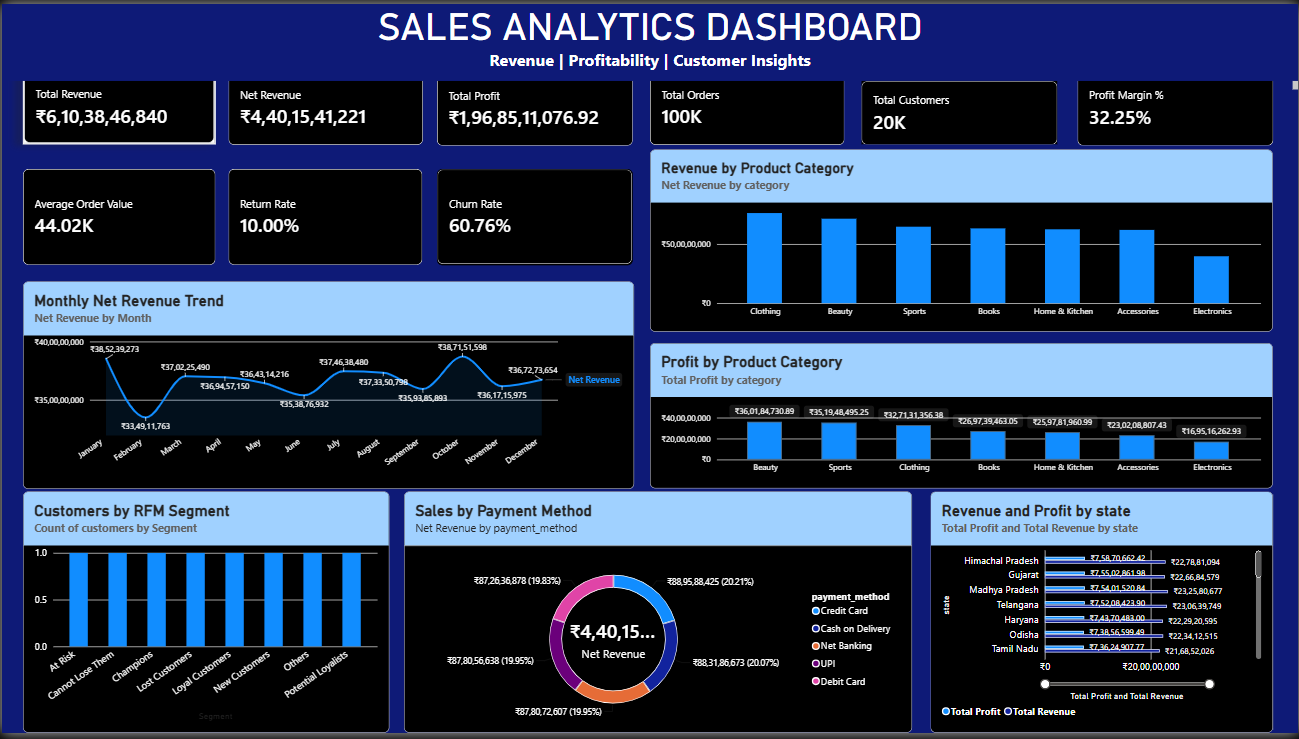

What the dashboard file says about the page in this screenshot:
{"tool":"powerbi","page":{"name":"executive overview","canvas":[1920,1080],"ordinal":0},"visuals":[{"type":"cardVisual","fields":{"Data":["orders_cleaned.Total Revenue"]},"box":[30,97.5,285,110],"z":0},{"type":"cardVisual","fields":{"Data":["orders_cleaned.Net Revenue"]},"box":[335,97.5,288.3,111.7],"z":1000},{"type":"cardVisual","fields":{"Data":["orders_cleaned.Total Profit"]},"box":[645,100,290,110],"z":2000},{"type":"cardVisual","fields":{"Data":["orders_cleaned.Total Orders"]},"box":[960,97.5,288.3,111.7],"z":3000},{"type":"cardVisual","fields":{"Data":["orders_cleaned.Profit Margin"]},"box":[1592.5,97.5,290,112.5],"z":4000},{"type":"cardVisual","fields":{"Data":["customers_cleaned.Total Customers"]},"box":[1272.5,97.5,290,110],"z":5000},{"type":"lineChart","title":"Monthly Net Revenue Trend","fields":{"Category":["orders_cleaned.order_date.Variation.Date Hierarchy.Month"],"Y":["orders_cleaned.Net Revenue"]},"box":[30,410,905,307.5],"z":6000},{"type":"clusteredColumnChart","title":"Revenue by Product Category","fields":{"Category":["products_cleaned.category"],"Y":["orders_cleaned.Net Revenue"]},"box":[960,215,922.5,270],"z":7000},{"type":"clusteredColumnChart","title":"Customers by RFM Segment","fields":{"Category":["customer_segments.Segment"],"Y":["CountNonNull(customer_segments.customers)"]},"box":[30,722.5,542.5,357.5],"z":8000},{"type":"clusteredColumnChart","title":"Profit by Product Category","fields":{"Category":["category_profitability.category"],"Y":["orders_cleaned.Total Profit"]},"box":[960,502.5,922.5,215],"z":9000},{"type":"clusteredBarChart","title":"Revenue and Profit by state","fields":{"Category":["customers_cleaned.state"],"Y":["orders_cleaned.Total Profit","orders_cleaned.Total Revenue"]},"box":[1375,722.5,507.5,357.5],"z":10000},{"type":"donutChart","title":"Sales by Payment Method","fields":{"Category":["payments_cleaned.payment_method"],"Y":["orders_cleaned.Net Revenue"]},"box":[595,722.5,752.5,357.5],"z":11000},{"type":"textbox","title":"SALES ANALYTICS DASHBOARD  ","box":[0,0,1920,126.7],"z":12000},{"type":"cardVisual","fields":{"Data":["orders_cleaned.Average Order Value"]},"box":[30,245,285,142.5],"z":13000},{"type":"cardVisual","fields":{"Data":["orders_cleaned.Return Rate"]},"box":[335,245,287.5,142.5],"z":13001},{"type":"cardVisual","fields":{"Data":["customer_churn_analysis.Churn Rate"]},"box":[645,245,290,142.5],"z":13002}]}

Visuals, with their boxes in screenshot pixels (x1, y1, x2, y2), scaled from the page's 1920x1080 canvas onto the 1299x739 screenshot:
cardVisual - orders_cleaned.Total Revenue: BBox(20, 67, 213, 142)
cardVisual - orders_cleaned.Net Revenue: BBox(227, 67, 422, 143)
cardVisual - orders_cleaned.Total Profit: BBox(436, 68, 633, 144)
cardVisual - orders_cleaned.Total Orders: BBox(650, 67, 845, 143)
cardVisual - orders_cleaned.Profit Margin: BBox(1077, 67, 1274, 144)
cardVisual - customers_cleaned.Total Customers: BBox(861, 67, 1057, 142)
"Monthly Net Revenue Trend" lineChart: BBox(20, 281, 633, 491)
"Revenue by Product Category" clusteredColumnChart: BBox(650, 147, 1274, 332)
"Customers by RFM Segment" clusteredColumnChart: BBox(20, 494, 387, 738)
"Profit by Product Category" clusteredColumnChart: BBox(650, 344, 1274, 491)
"Revenue and Profit by state" clusteredBarChart: BBox(930, 494, 1274, 738)
"Sales by Payment Method" donutChart: BBox(403, 494, 912, 738)
"SALES ANALYTICS DASHBOARD  " textbox: BBox(0, 0, 1298, 87)
cardVisual - orders_cleaned.Average Order Value: BBox(20, 168, 213, 265)
cardVisual - orders_cleaned.Return Rate: BBox(227, 168, 421, 265)
cardVisual - customer_churn_analysis.Churn Rate: BBox(436, 168, 633, 265)
